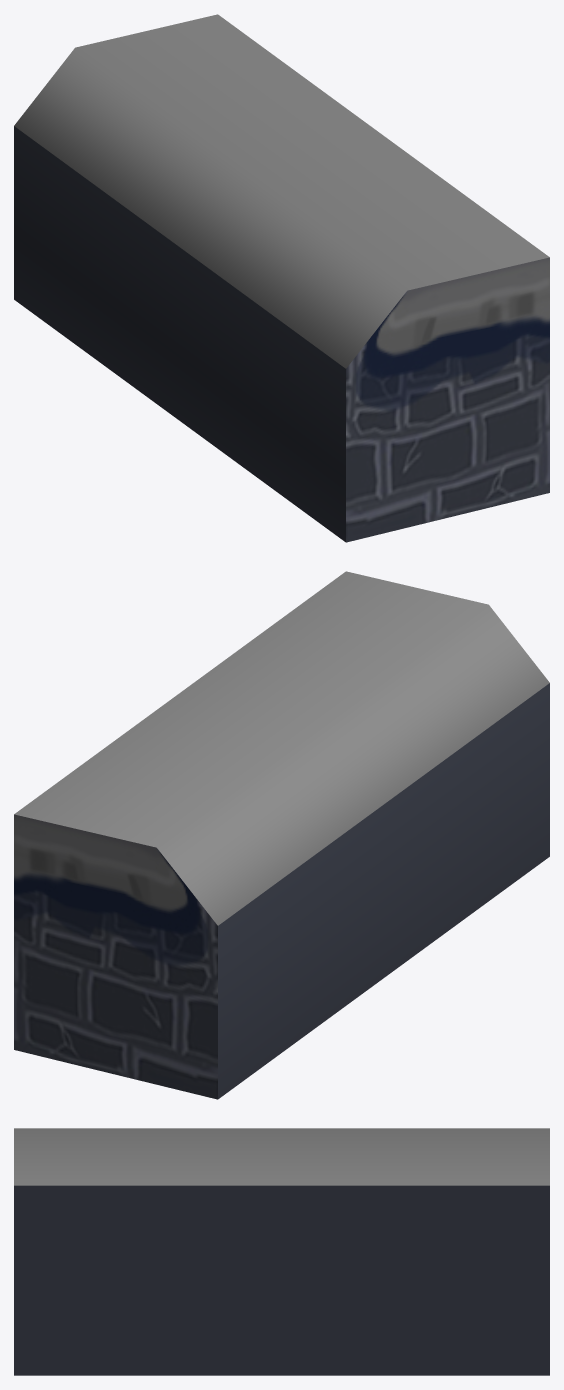
File: Crypt_R_2.fbx
3 renders of one model, top to bottom at view 1: azimuth 30°, elevation 25°; view 2: azimuth 150°, elevation 25°; view 3: azimuth 270°, elevation 25°, orthographic. The views are drawn at different scales.
Parts seen in each view (by area): view 1: Crypt_R_2; view 2: Crypt_R_2; view 3: Crypt_R_2.
Part boxes in pixels (left/top/right/bottom): Crypt_R_2: left=14, top=14, right=549, bottom=542; Crypt_R_2: left=14, top=571, right=549, bottom=1099; Crypt_R_2: left=14, top=1128, right=549, bottom=1375.
Size of the model in its own units: 1.51 by 1.68 by 4.26.
1 material, 1 textured.
